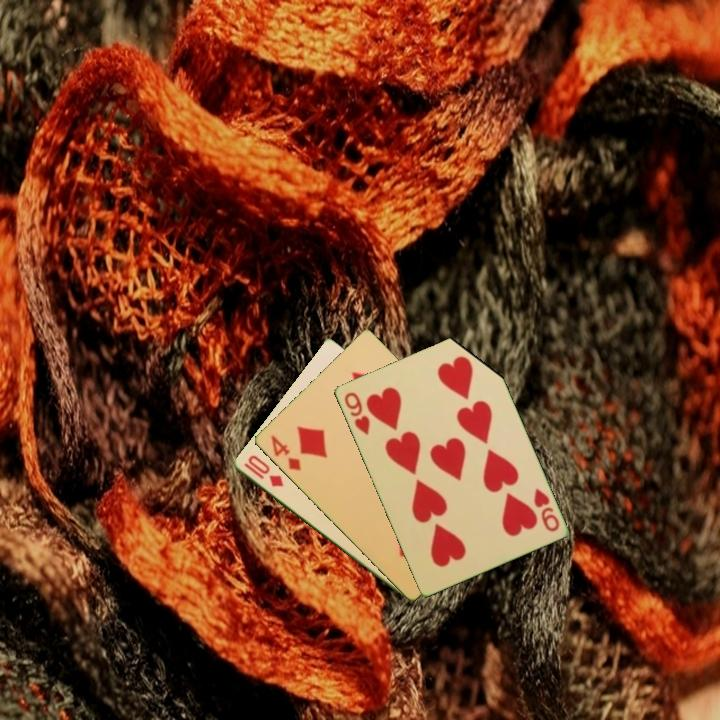10d: (240, 451, 287, 490)
4d: (267, 431, 303, 474)
9h: (530, 484, 562, 535), (340, 388, 372, 438)
